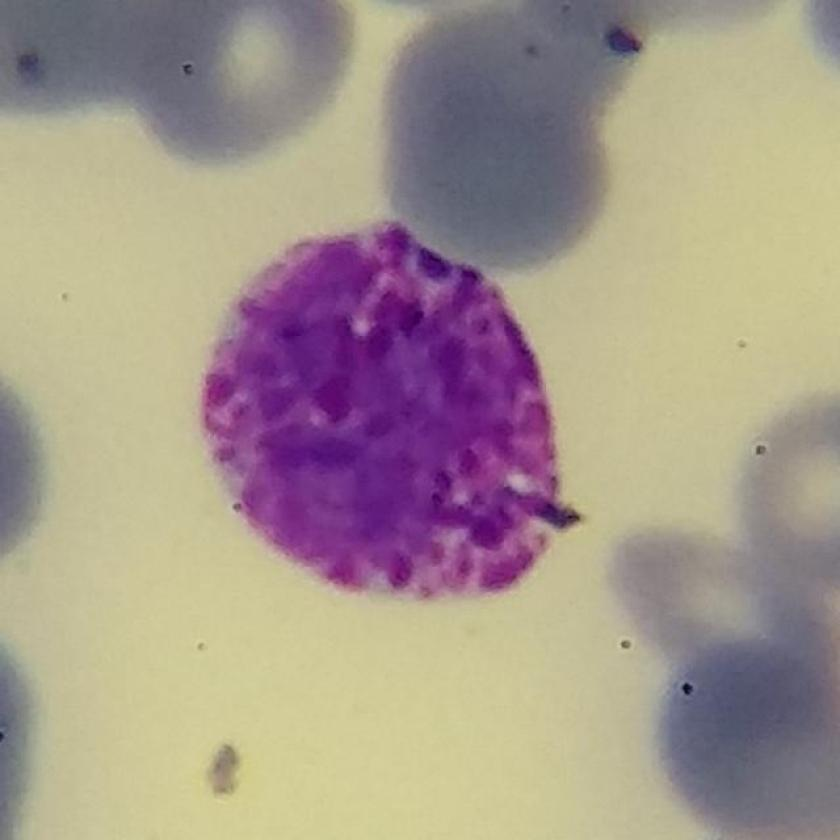basophil: (201, 206, 585, 621)
